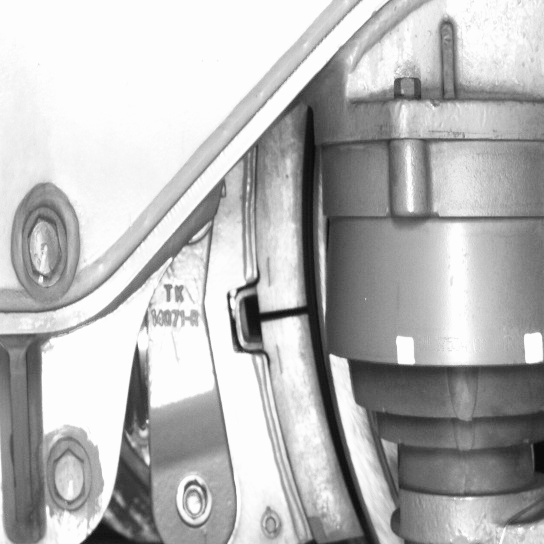KnifeSwitch: (273, 142, 380, 540)
